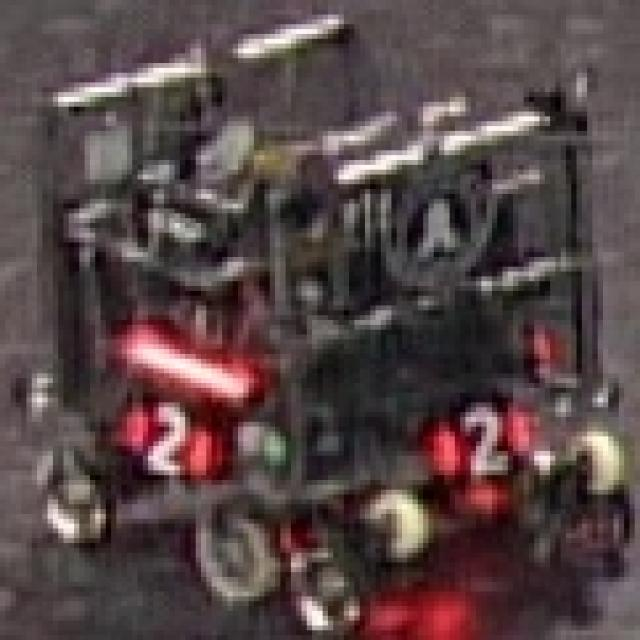R2: (106, 388, 212, 480), (428, 402, 540, 480)
